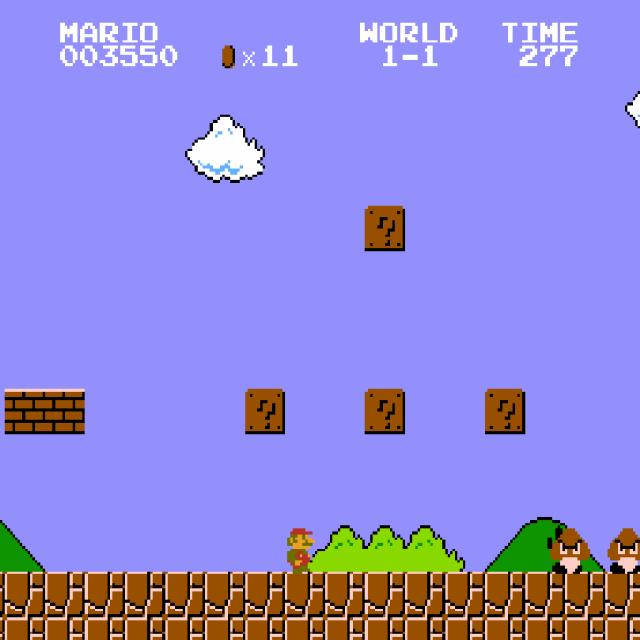brick_block: (5, 389, 45, 434), (45, 389, 85, 434)
goomba: (548, 526, 590, 574), (605, 526, 640, 574)
little_mario: (277, 526, 320, 574)
mystery_block: (245, 389, 285, 434), (365, 206, 405, 251), (365, 389, 405, 434), (485, 389, 525, 434)
undestructible_block: (5, 572, 45, 617), (45, 572, 85, 617), (85, 572, 125, 617), (125, 572, 165, 617), (165, 572, 205, 617), (205, 572, 245, 617), (245, 572, 285, 617), (285, 572, 325, 617), (325, 572, 365, 617), (365, 572, 405, 617), (405, 572, 445, 617), (445, 572, 485, 617), (485, 572, 525, 617), (525, 572, 565, 617), (565, 572, 605, 617), (605, 572, 640, 617), (5, 617, 45, 640), (45, 617, 85, 640), (85, 617, 125, 640), (125, 617, 165, 640), (165, 617, 205, 640), (205, 617, 245, 640), (245, 617, 285, 640), (285, 617, 325, 640), (325, 617, 365, 640), (365, 617, 405, 640), (405, 617, 445, 640), (445, 617, 485, 640), (485, 617, 525, 640), (525, 617, 565, 640), (565, 617, 605, 640), (605, 617, 640, 640), (0, 572, 5, 617), (0, 617, 5, 640)
